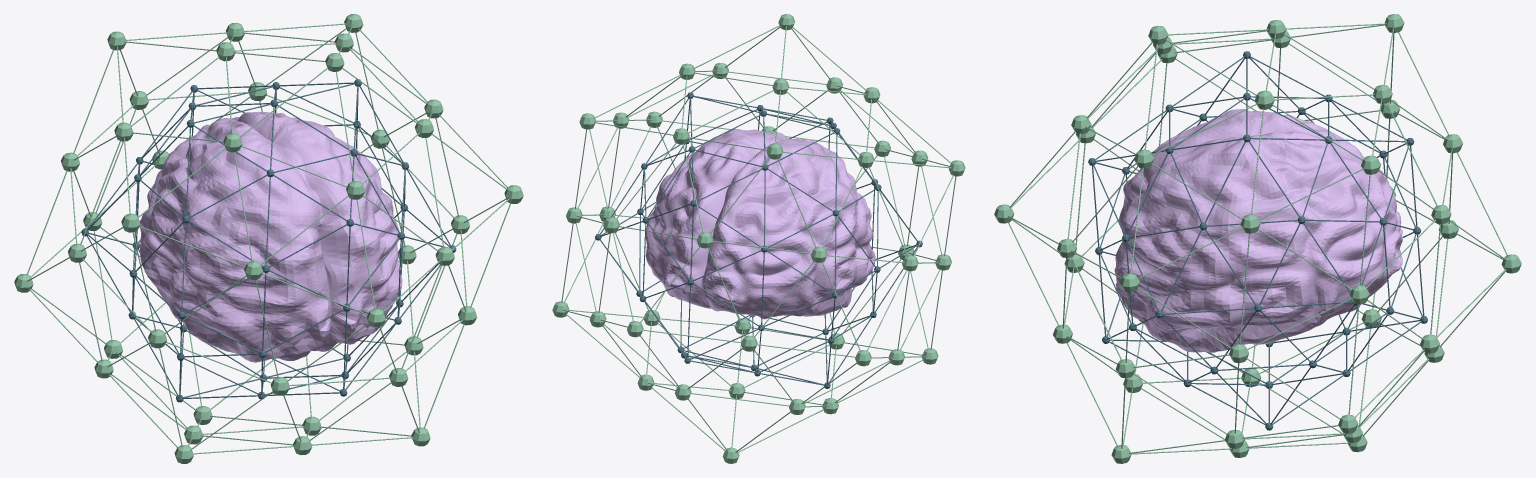
Rendered from Brain high-poly ready.glb.
3 renders of one model, left to right at view 1: azimuth 30°, elevation 25°; view 2: azimuth 150°, elevation 25°; view 3: azimuth 270°, elevation 25°, orthographic. The views are drawn at different scales.
Parts seen in each view (by area): view 1: Subdivision Surface.1, Platonic (×2); view 2: Subdivision Surface.1, Platonic (×2); view 3: Subdivision Surface.1, Platonic (×2).
Part boxes in pixels (bbox=[...]): Subdivision Surface.1: bbox=[139, 111, 402, 362]; Platonic (×2): bbox=[14, 14, 523, 463]; Subdivision Surface.1: bbox=[646, 129, 875, 319]; Platonic (×2): bbox=[552, 14, 965, 463]; Subdivision Surface.1: bbox=[1114, 109, 1402, 352]; Platonic (×2): bbox=[994, 14, 1521, 463].
Bounding box in the file's own units: 2.75 × 2.99 × 3.23.
